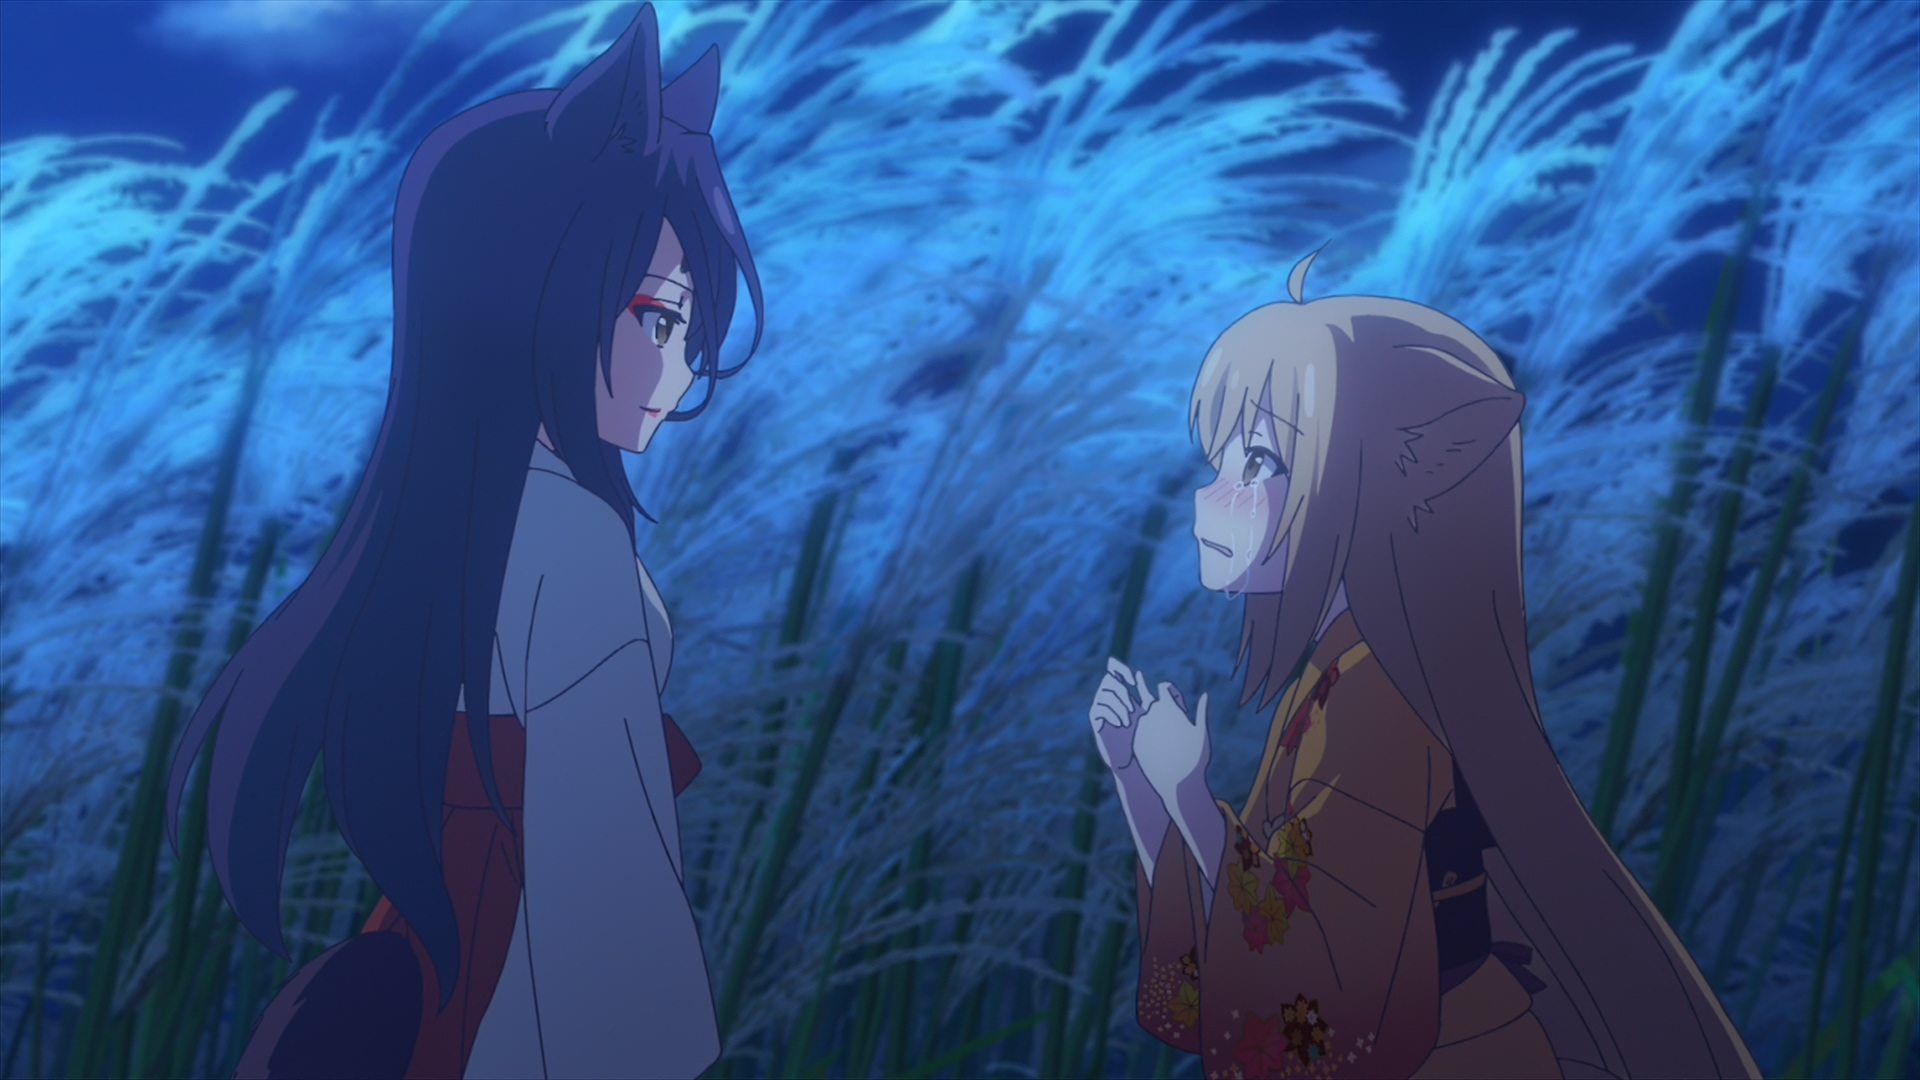柚: (1089, 255, 1756, 1080)
皋: (165, 1, 765, 1080)
